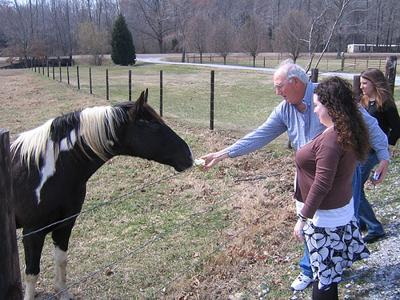person: (198, 62, 390, 293)
